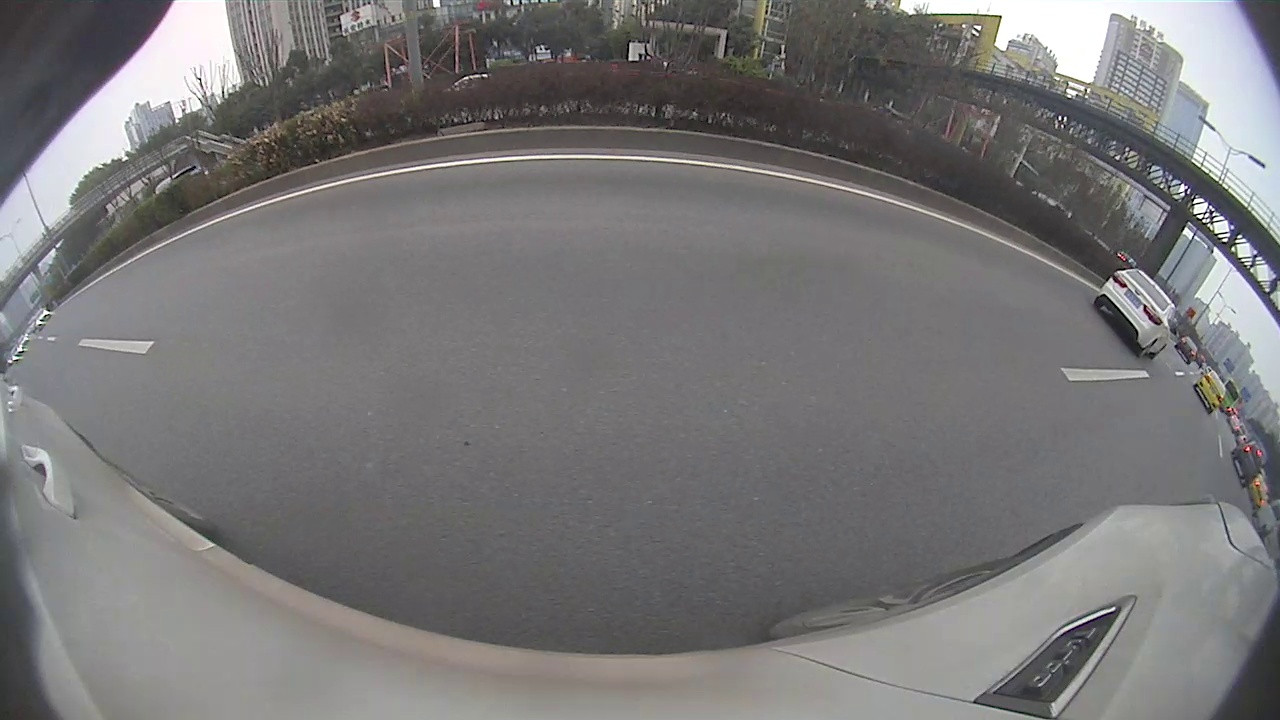car: (1093, 267, 1173, 360), (1193, 368, 1226, 416), (1171, 335, 1200, 365)
